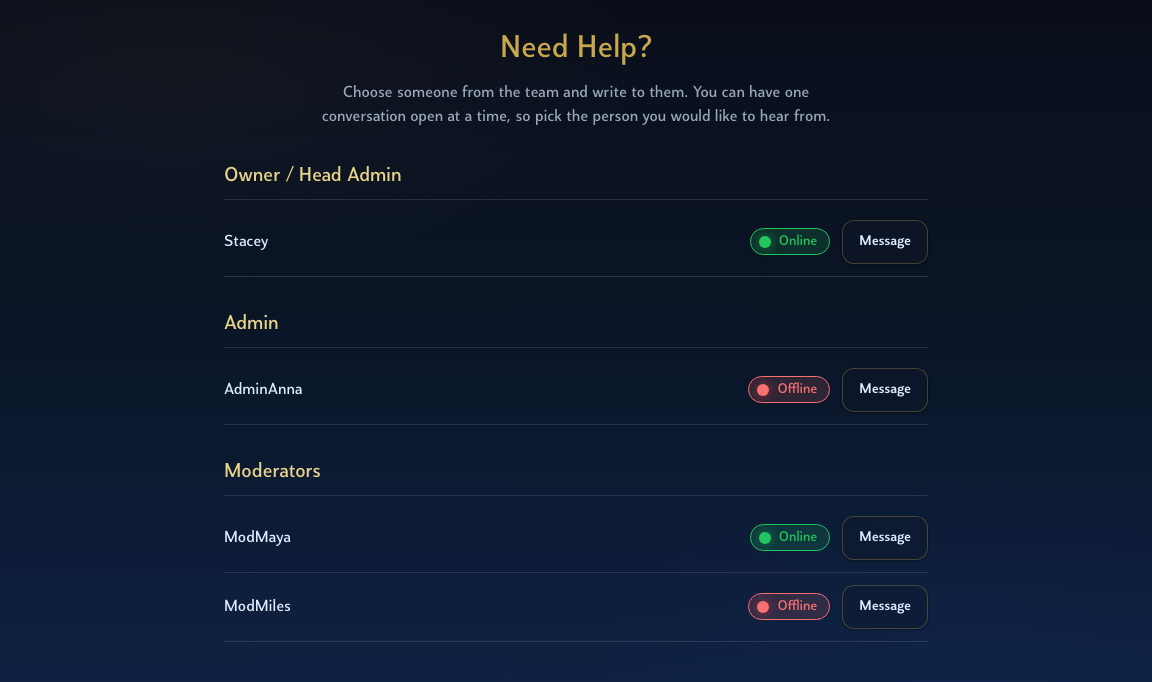
Scenario: NeedHelpPage › shows friendly copy for helpOpenConversation and keeps what was typed
This screenshot has width=1152, height=682.
Click the button with aria-label "Message Stacey": click(885, 242) [842,220,928,264]
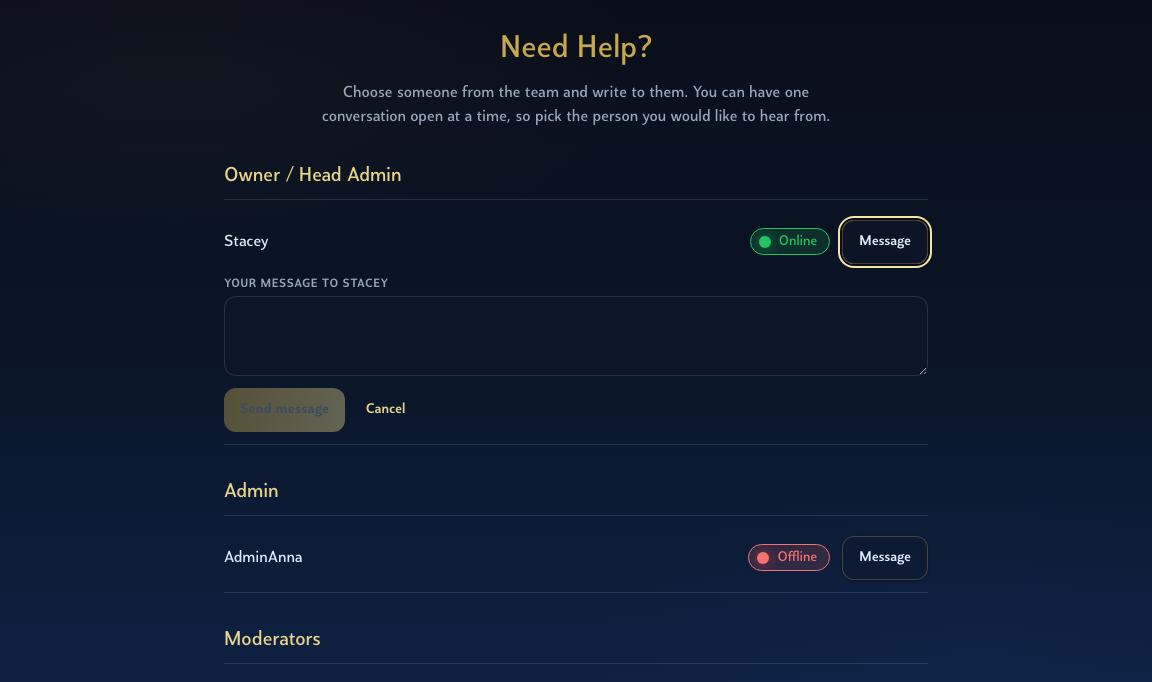
In the text box labelled "Your message to Stacey": (576, 336) [224,296,928,376], type "hello there"
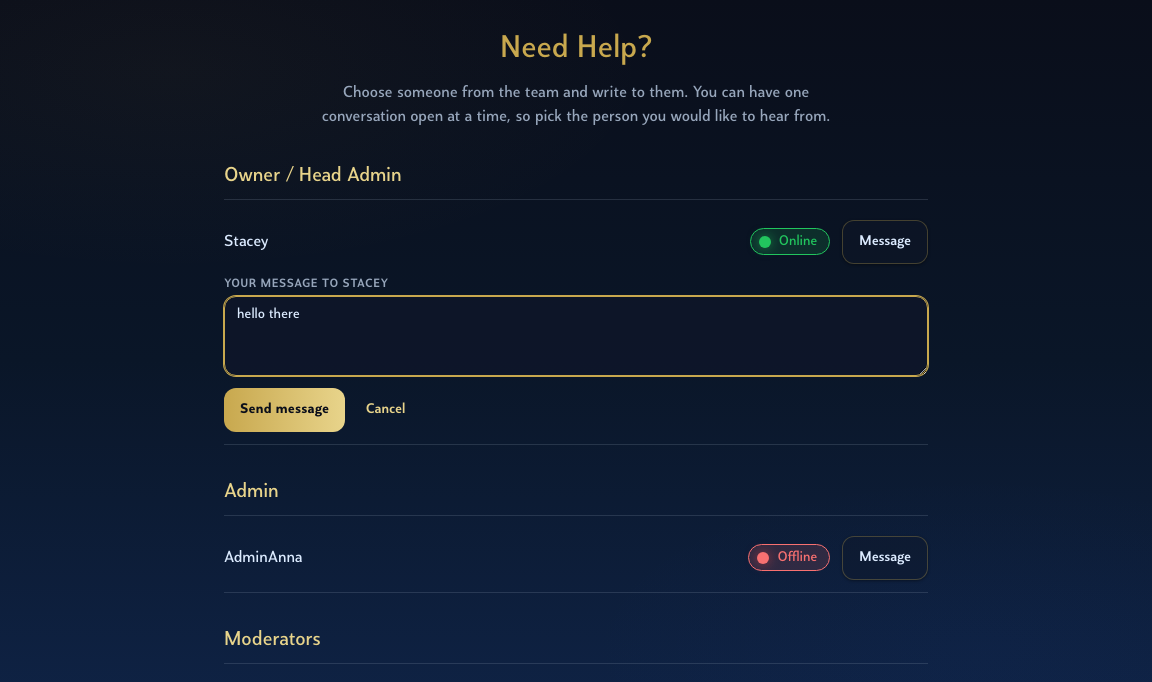
Click the button "Send message": click(285, 410) [224,388,345,432]
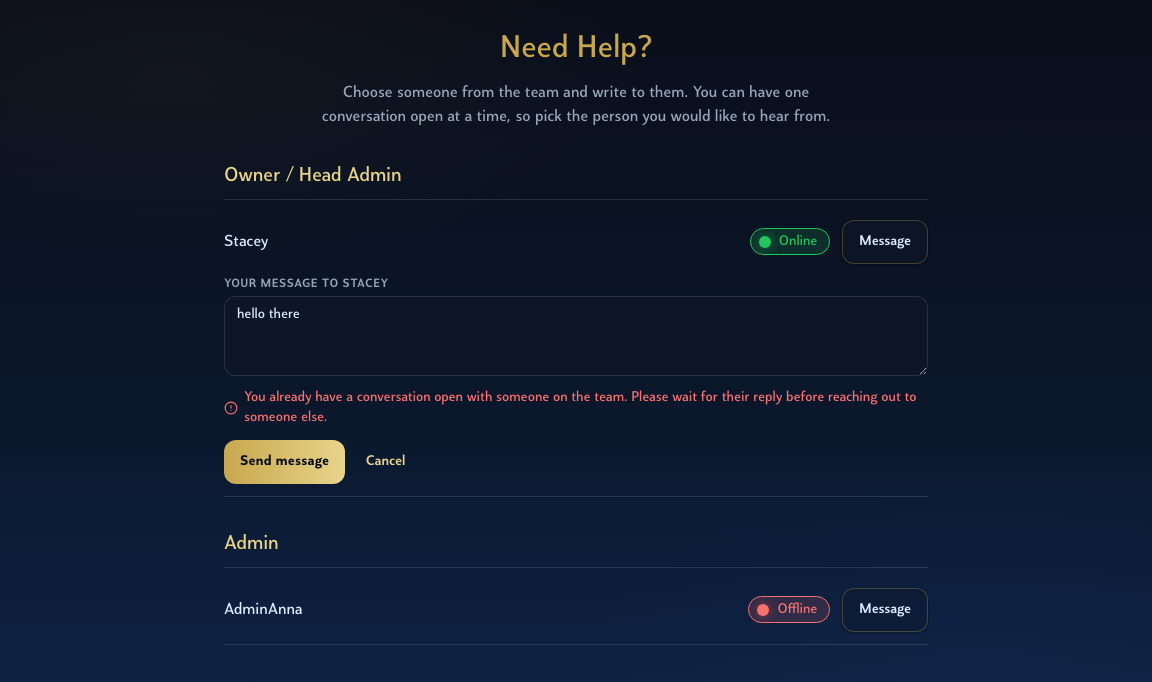
Expected: the message does not show "helpOpenConversation", [224,388,928,428]
Expected: the message shows "conversation open with someone on the team", [244,390,916,425]
